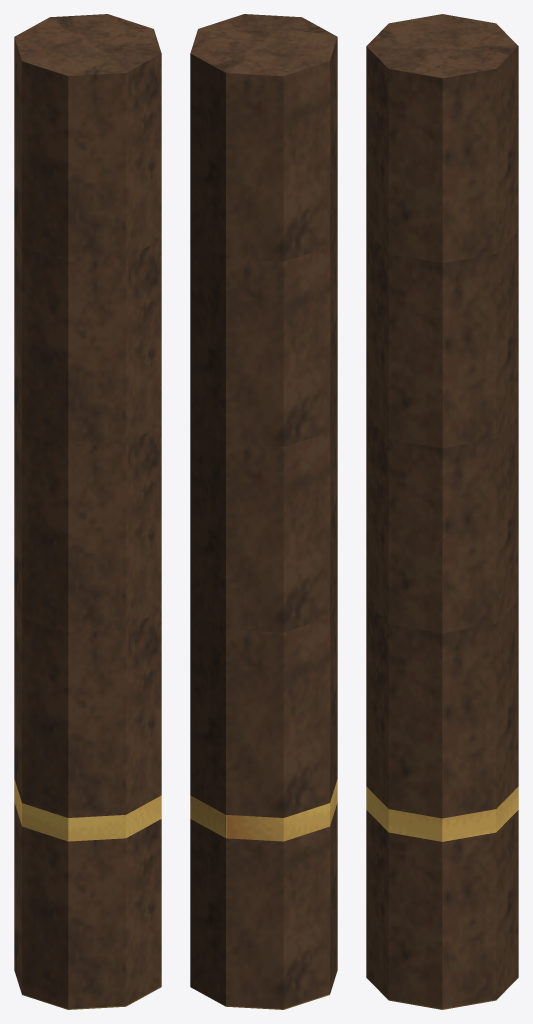
File: pilar.fbx
3 views of the same model, side by side, from view 1: azimuth 30°, elevation 25°; view 2: azimuth 150°, elevation 25°; view 3: azimuth 270°, elevation 25° (orthographic).
Visible parts, largest first — view 1: Cylinder.029; view 2: Cylinder.029; view 3: Cylinder.029.
Part boxes in pixels (x1,y1,x2,y2): Cylinder.029: (14, 14, 161, 1009); Cylinder.029: (190, 14, 337, 1009); Cylinder.029: (366, 14, 518, 1009).
Size of the model in its own units: 135 by 914 by 135.
